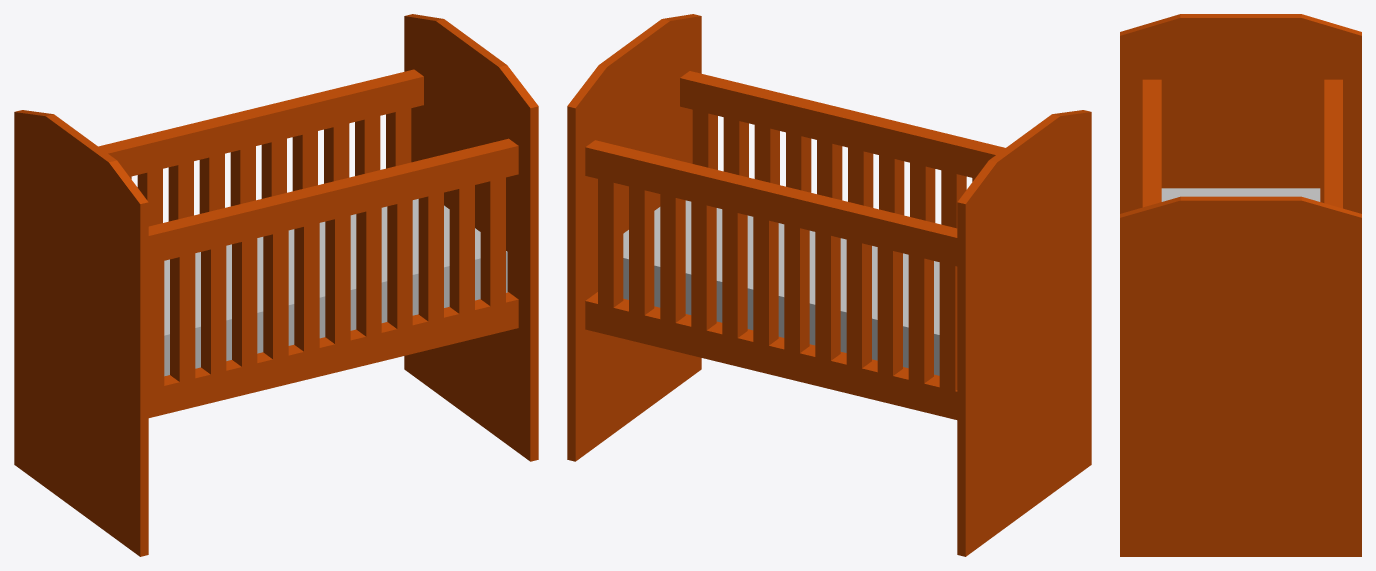
The model's file is berço.fbx.
The picture shows the model from 3 angles, left to right: view 1: azimuth 30°, elevation 25°; view 2: azimuth 150°, elevation 25°; view 3: azimuth 270°, elevation 25°; orthographic projection. The views are drawn at different scales.
Parts seen in each view (by area): view 1: Cube.001 (×2); view 2: Cube.001 (×2); view 3: Cube.001 (×2).
Boxes of the visible parts, x1,y1,x2,y2 form: Cube.001 (×2): (14,14,538,556); Cube.001 (×2): (567,14,1091,556); Cube.001 (×2): (1120,14,1361,556).
Bounding box in the file's own units: 2036 × 1813 × 1116.
